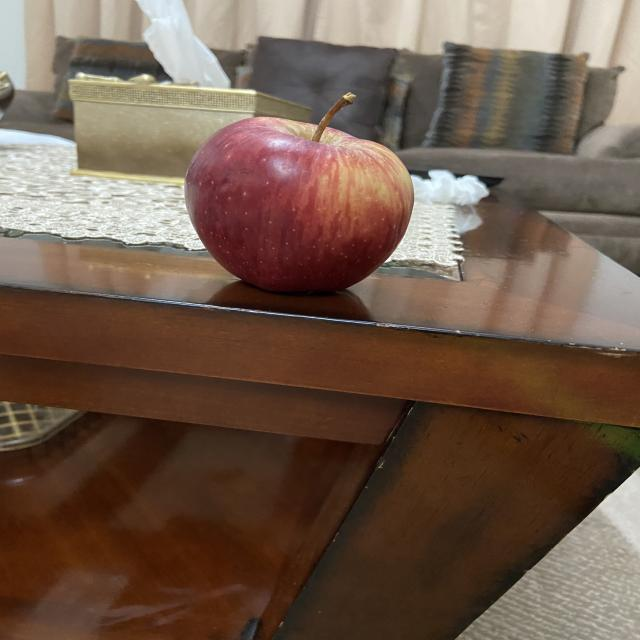apple: (187, 90, 419, 294)
